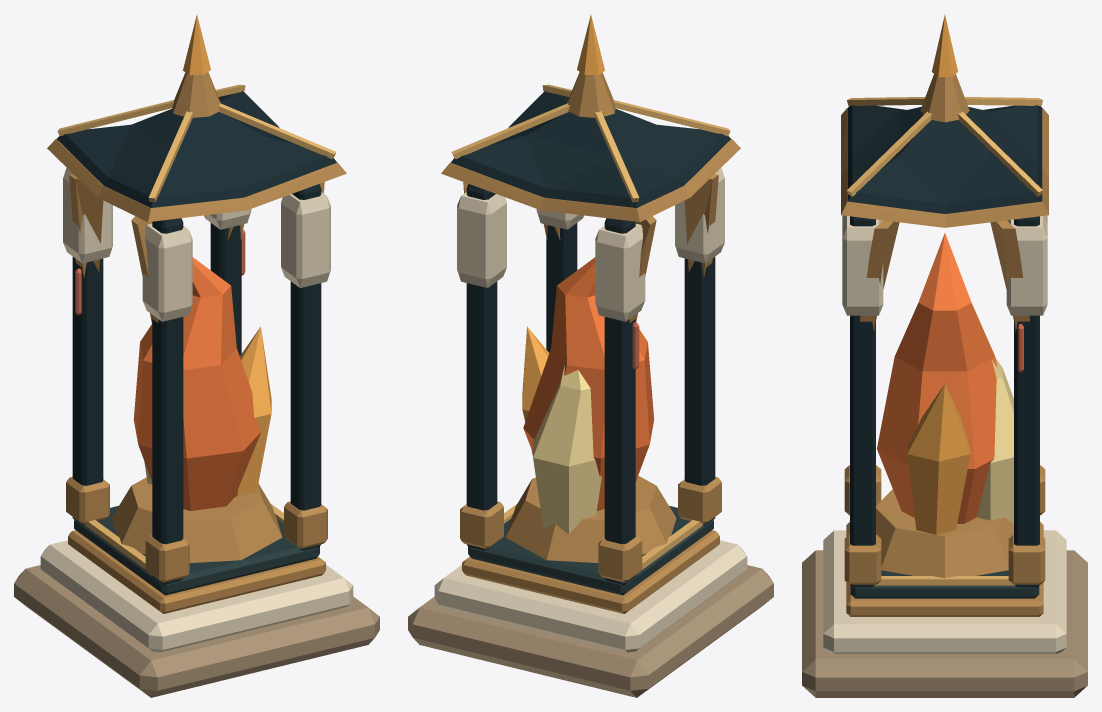
Rendered from Tower_FlameLanternL1.fbx.
3 views of the same model, side by side, from view 1: azimuth 30°, elevation 25°; view 2: azimuth 150°, elevation 25°; view 3: azimuth 270°, elevation 25° (orthographic). The views are drawn at different scales.
Parts seen in each view (by area): view 1: Tower_FlameLanternL1; view 2: Tower_FlameLanternL1; view 3: Tower_FlameLanternL1.
Boxes of the visible parts, x1=… form: Tower_FlameLanternL1: x1=14, y1=15, x2=379, y2=697; Tower_FlameLanternL1: x1=408, y1=15, x2=773, y2=697; Tower_FlameLanternL1: x1=802, y1=15, x2=1087, y2=697.
Size of the model in its own units: 0.94 by 2.29 by 0.94.
